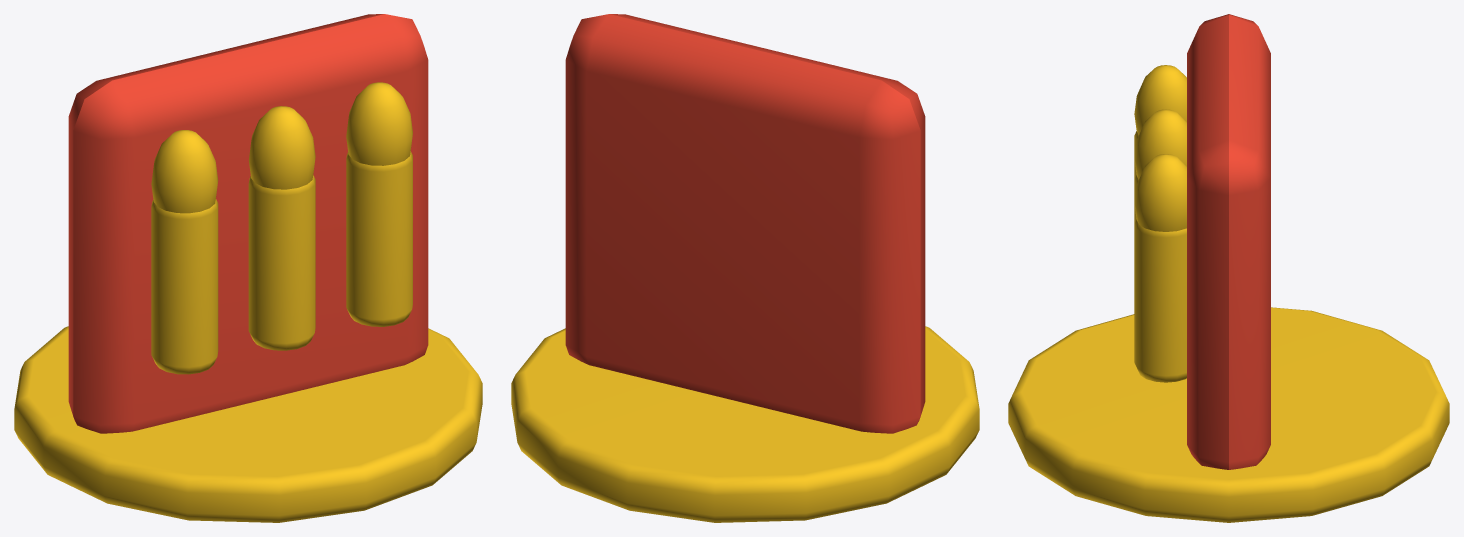
The model's file is COM-POWER-02.glb.
The picture shows the model from 3 angles, left to right: view 1: azimuth 30°, elevation 25°; view 2: azimuth 150°, elevation 25°; view 3: azimuth 270°, elevation 25°; orthographic projection. The views are drawn at different scales.
Parts seen in each view (by area): view 1: rounded badge, base ring, bullet.001, bullet, bullet.002, bullet tip.001, bullet tip, bullet tip.002; view 2: rounded badge, base ring; view 3: base ring, rounded badge, bullet.002, bullet tip.002, bullet tip.001, bullet tip.
Boxes of the visible parts, box(x1,y1,x2,y2) form: rounded badge: box(68, 14, 428, 433); base ring: box(14, 326, 482, 522); bullet.001: box(248, 175, 315, 350); bullet: box(151, 199, 218, 374); bullet.002: box(346, 151, 412, 326); bullet tip.001: box(248, 106, 315, 189); bullet tip: box(151, 130, 218, 213); bullet tip.002: box(346, 82, 412, 165); rounded badge: box(565, 14, 925, 433); base ring: box(511, 326, 979, 522); base ring: box(1008, 307, 1449, 522); rounded badge: box(1187, 14, 1270, 469); bullet.002: box(1134, 220, 1186, 382); bullet tip.002: box(1134, 154, 1186, 231); bullet tip.001: box(1134, 109, 1186, 179); bullet tip: box(1134, 65, 1186, 135).
Bounding box in the file's own units: 0.84 × 0.75 × 0.84.
